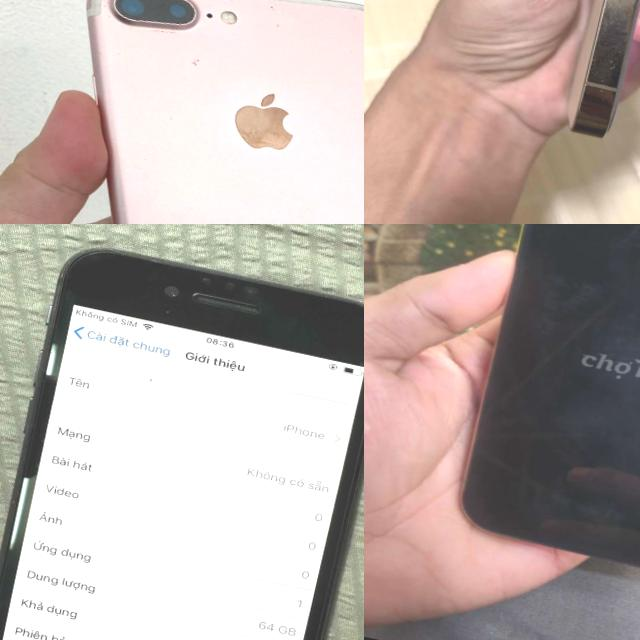gen_12_13: (448, 224, 640, 590)
gen_14: (530, 0, 640, 159)
gen_7_8: (0, 224, 364, 640), (0, 0, 364, 224)
